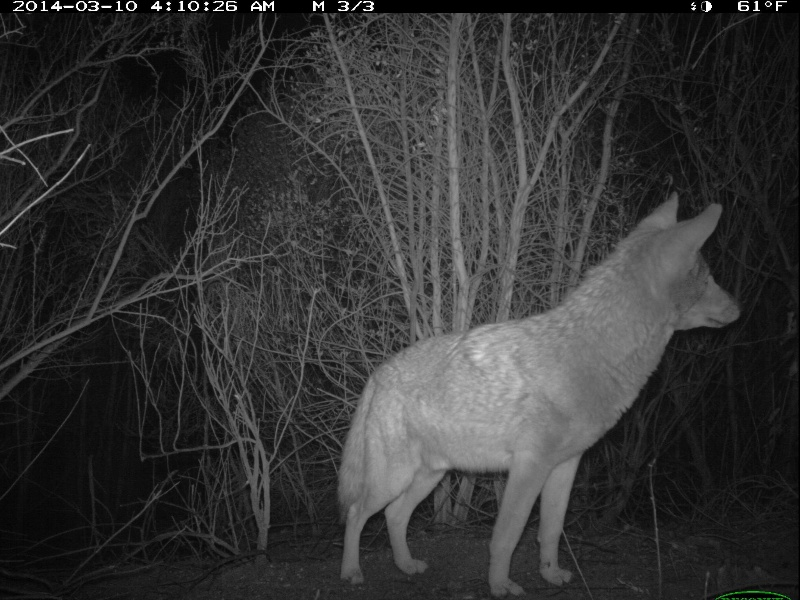coyote: (335, 192, 739, 587)
